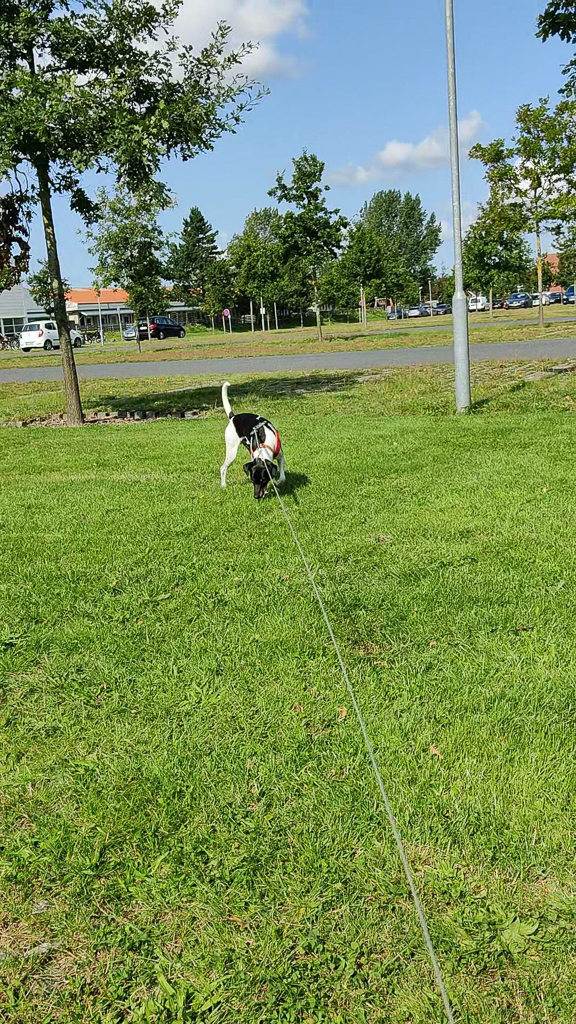Dog: (211, 375, 296, 507)
